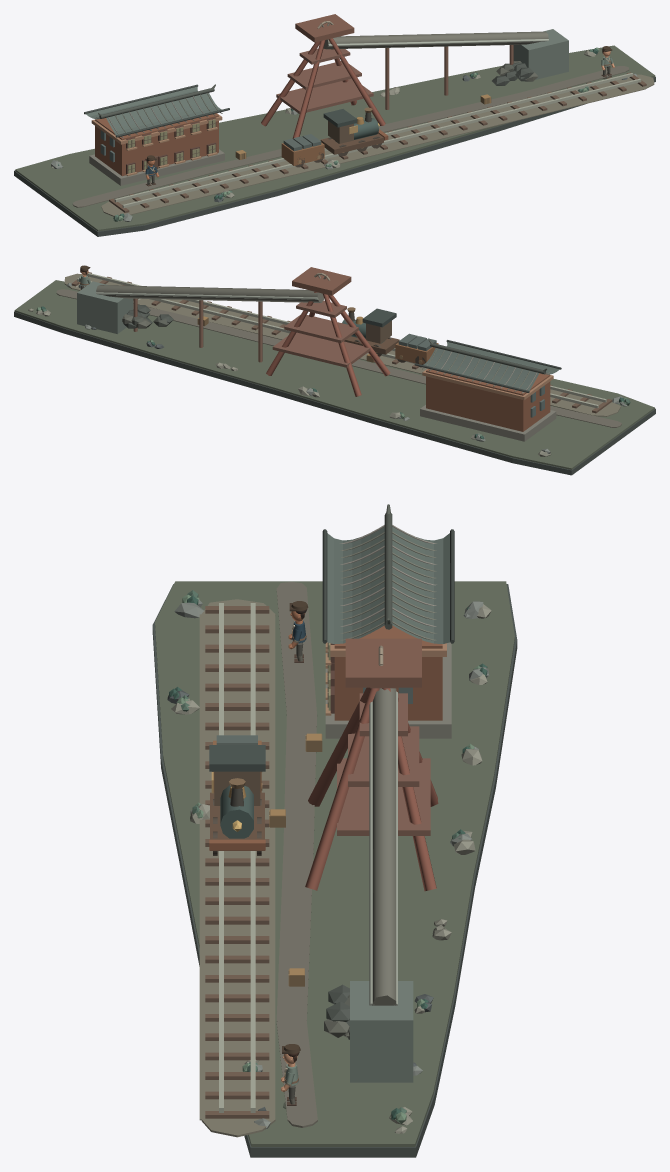
File: ruhr.glb
3 renders of one model, top to bottom at view 1: azimuth 30°, elevation 25°; view 2: azimuth 150°, elevation 25°; view 3: azimuth 270°, elevation 25°, orthographic. The views are drawn at different scales.
Parts seen in each view (by area): view 1: TerrainAndBuildings, SteamTrainMotion; view 2: TerrainAndBuildings, SteamTrainMotion; view 3: TerrainAndBuildings, SteamTrainMotion.
Part boxes in pixels (x1,y1,x2,y2): TerrainAndBuildings: (14, 14, 655, 236); SteamTrainMotion: (281, 107, 388, 167); TerrainAndBuildings: (14, 267, 655, 475); SteamTrainMotion: (342, 307, 438, 367); TerrainAndBuildings: (152, 504, 517, 1157); SteamTrainMotion: (209, 735, 265, 855).
Size of the model in its own units: 1.73 by 0.3135 by 0.4717.
